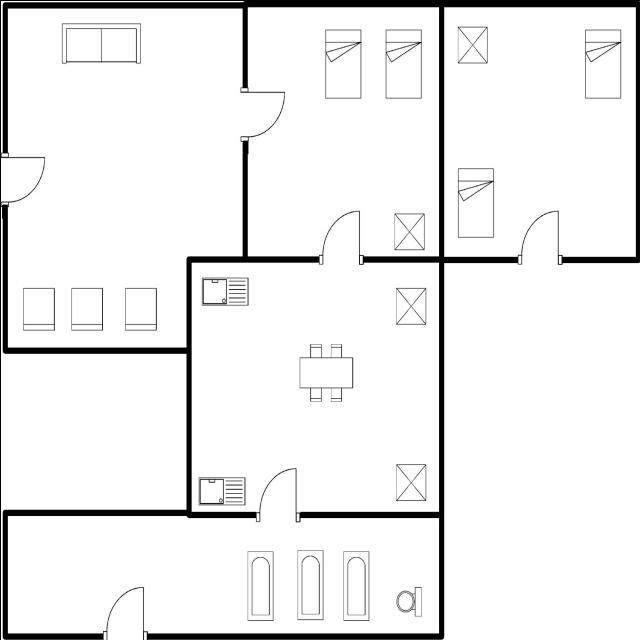bed: (453, 162, 498, 241), (321, 24, 365, 102), (580, 24, 624, 102), (381, 24, 425, 100)
coffee_table: (391, 282, 430, 328), (392, 458, 428, 506), (391, 208, 428, 254), (454, 22, 490, 67)
large_sink: (394, 580, 424, 622)
large_sofa: (56, 17, 144, 67)
sink: (197, 272, 251, 308), (195, 472, 248, 508)
small_sofa: (296, 340, 356, 406), (18, 280, 58, 334), (122, 282, 160, 334), (68, 281, 106, 332)
tub: (340, 546, 371, 625), (294, 545, 324, 623), (246, 548, 276, 624)
